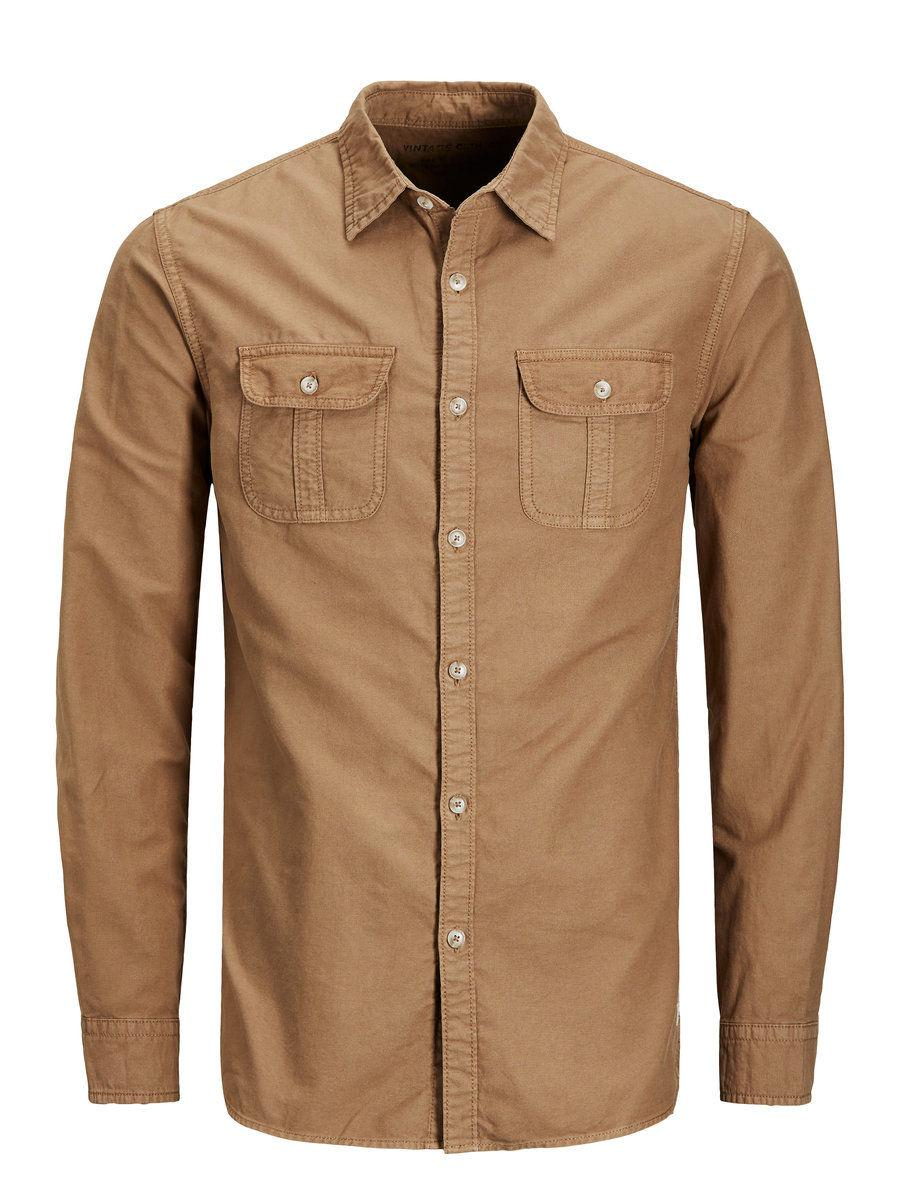teeshirt: (27, 69, 858, 1156)
